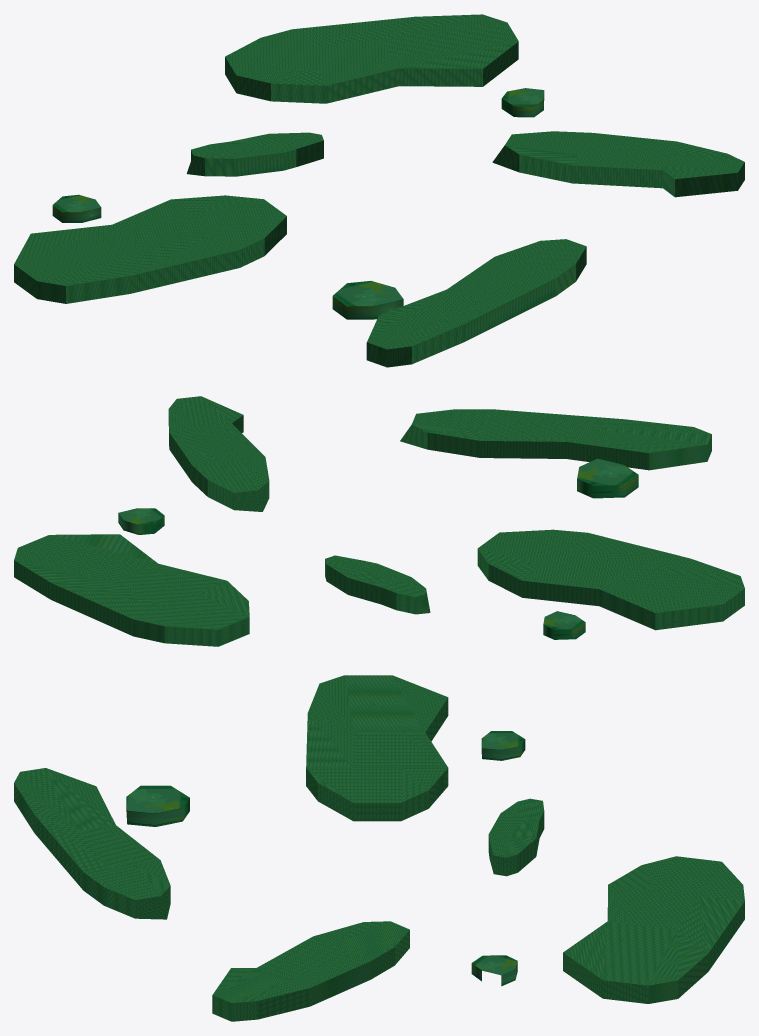
File: feixu.FBX
3 views of the same model, one above another, from view 1: azimuth 30°, elevation 25°; view 2: azimuth 150°, elevation 25°; view 3: azimuth 270°, elevation 25° (orthographic). The views are drawn at different scales.
Parts seen in each view (by area): view 1: PBOX33_Grass_003; view 2: PBOX33_Grass_003; view 3: PBOX33_Grass_003.
Boxes of the visible parts, x1,y1,x2,y2 form: PBOX33_Grass_003: [14, 14, 744, 367]; PBOX33_Grass_003: [14, 396, 744, 646]; PBOX33_Grass_003: [14, 675, 744, 1021].
Bounding box in the file's own units: 100 × 2.64 × 94.14.
